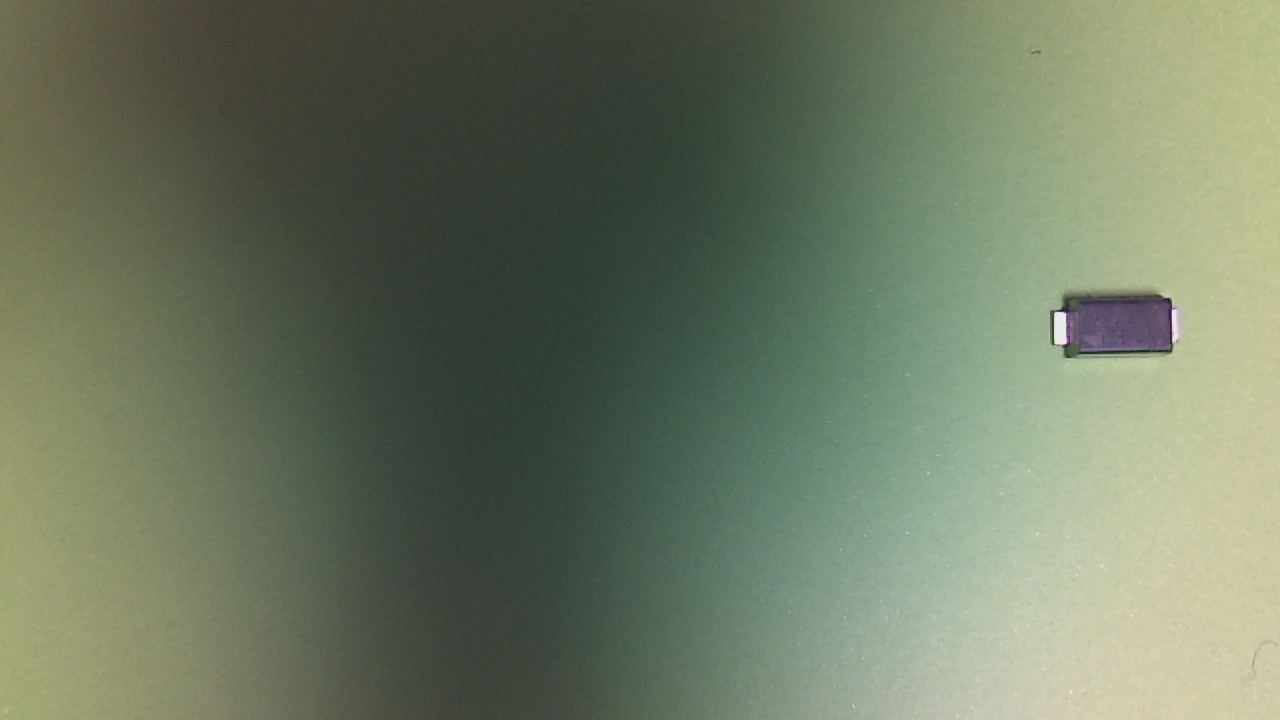Diode: (1052, 296, 1189, 364)
